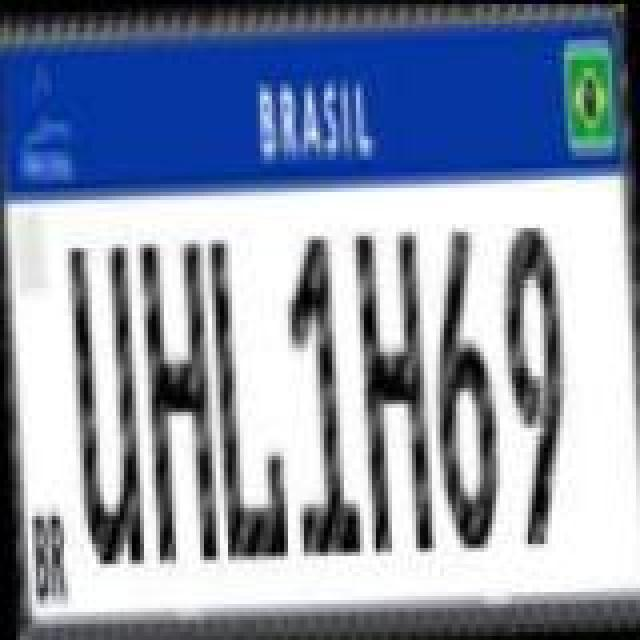1: (284, 228, 364, 560)
6: (430, 216, 506, 552)
9: (496, 216, 576, 552)
H: (356, 222, 436, 562), (140, 244, 220, 572)
L: (214, 238, 290, 570)
U: (70, 240, 146, 568)
